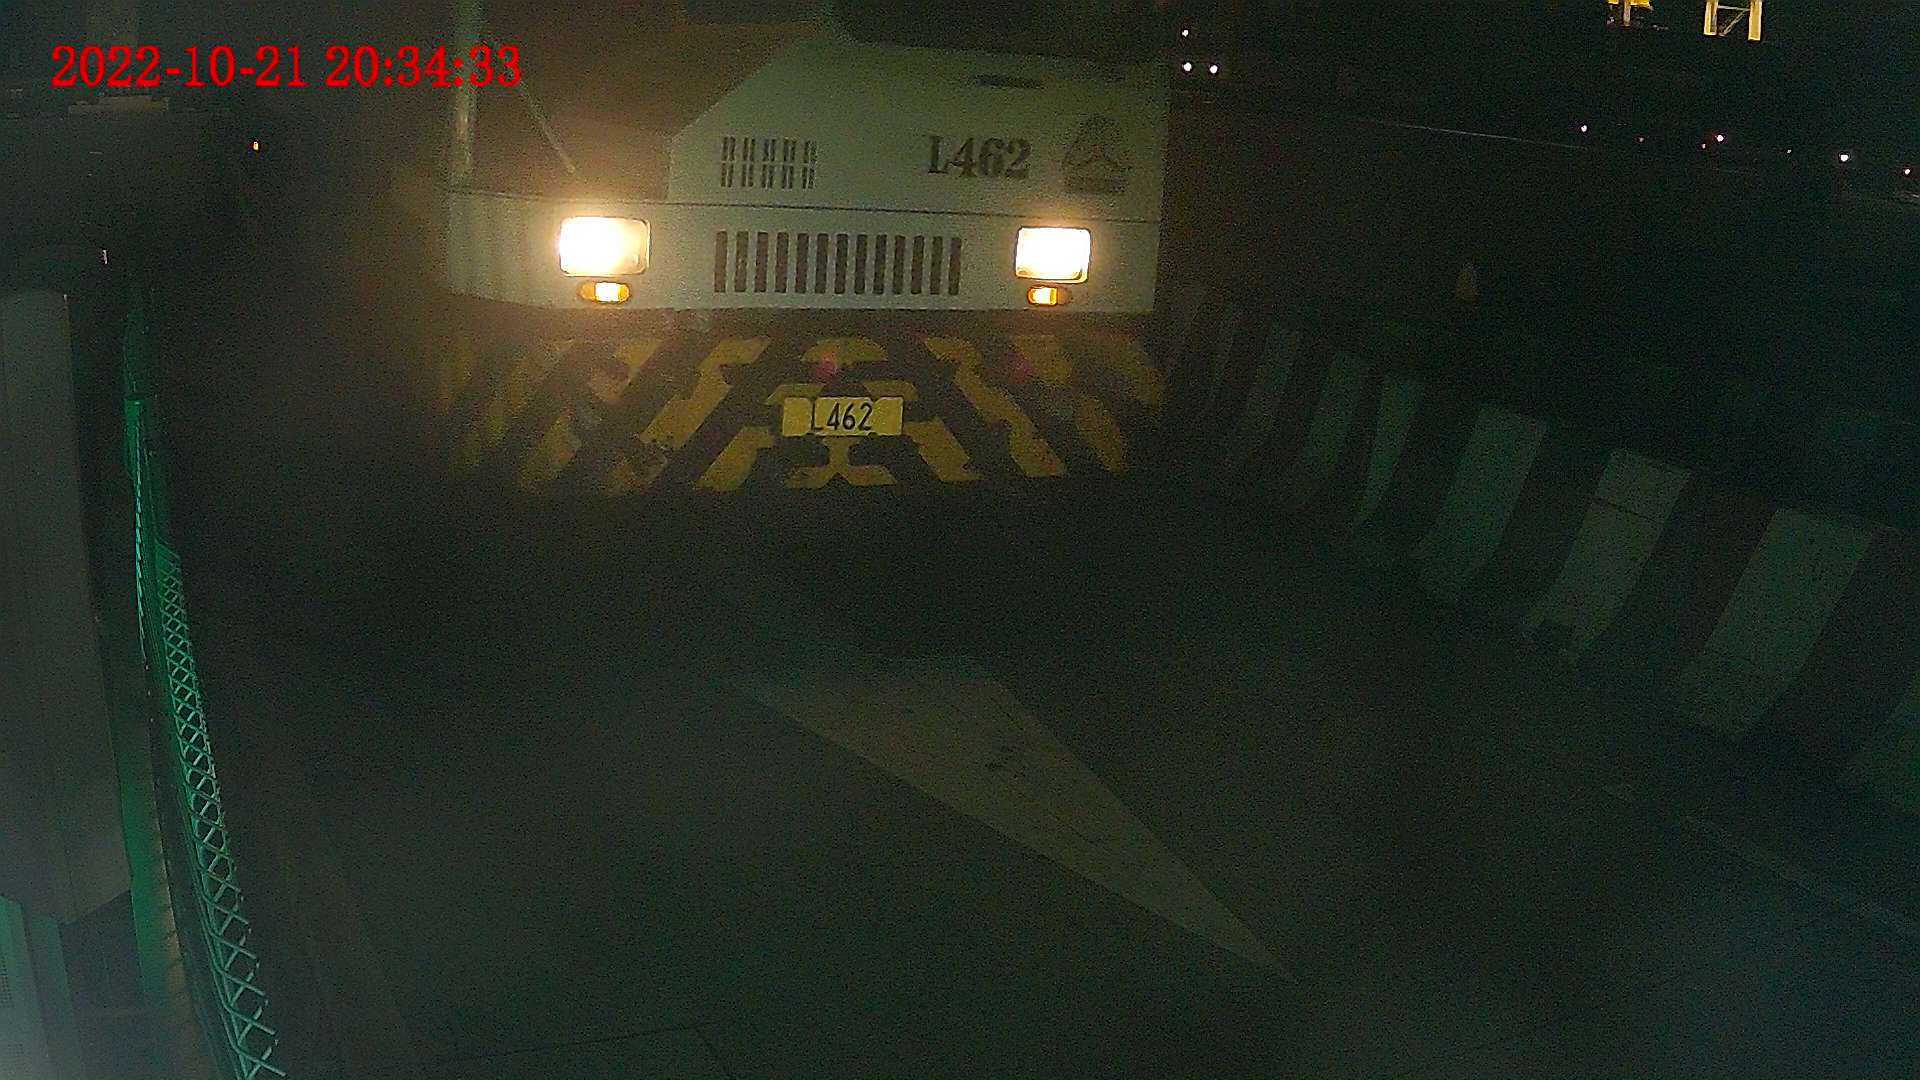head: (337, 1, 1175, 520)
plate: (780, 390, 896, 453)
